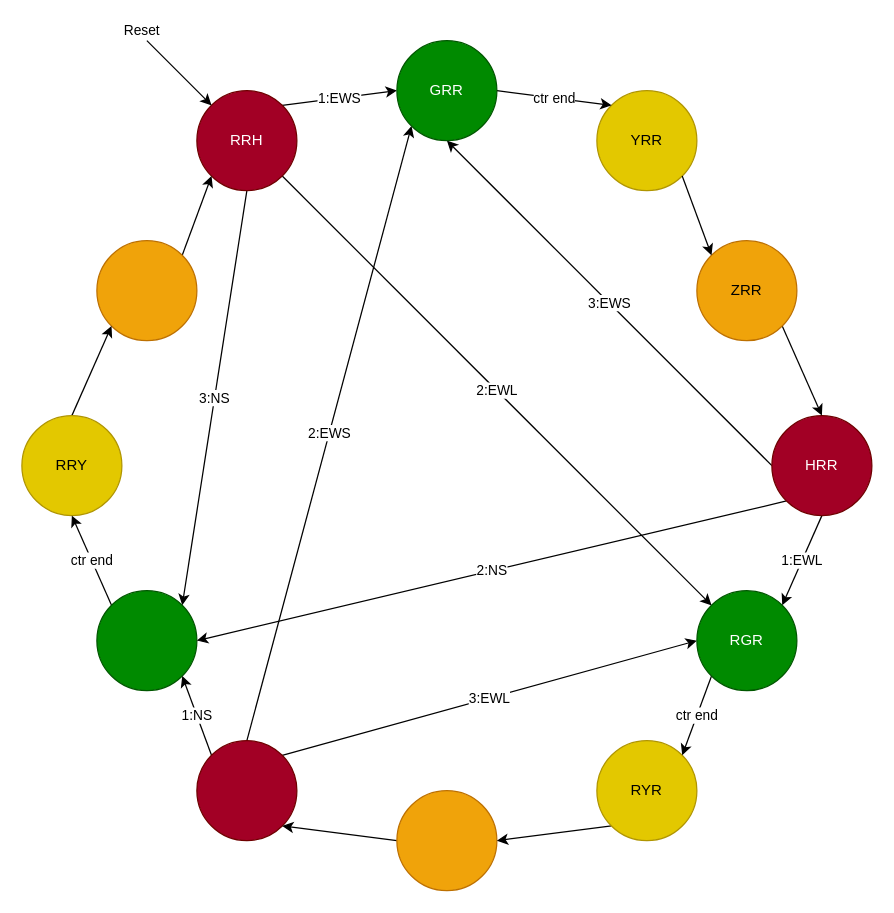
Image size: 894x913. Some labels were removed from this diagram. Here are the shapes that lost their labels. From the top down, the centre of each, then its label:
At pixel 146 290: "RRZ".
At pixel 146 640: "RRG".
At pixel 246 790: "RHR".
At pixel 446 840: "RZR".
